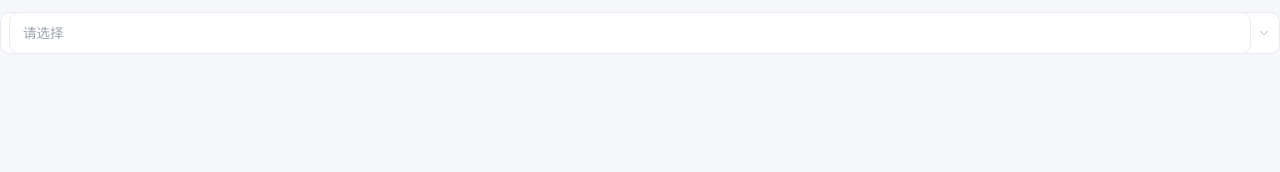
it: EntitySelect › searchable：按 hint（slug）也能搜到
This screenshot has width=1280, height=172.
Type "openapi" into the dropdown.
click(630, 33); type("openapi")  # box 9,12 -> 1251,54
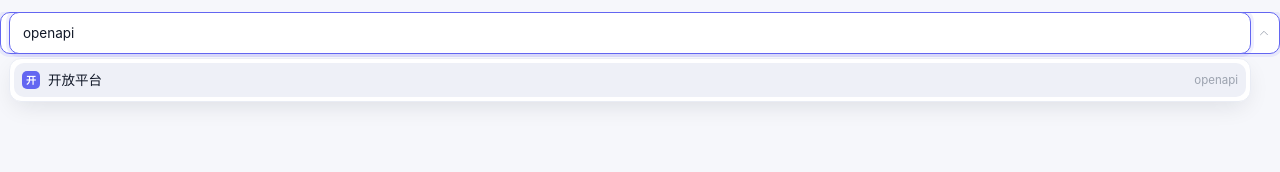
Now the option shows "开放平台", box 14,63 -> 1246,97
Now the number of options is 1, box 14,63 -> 1246,97
